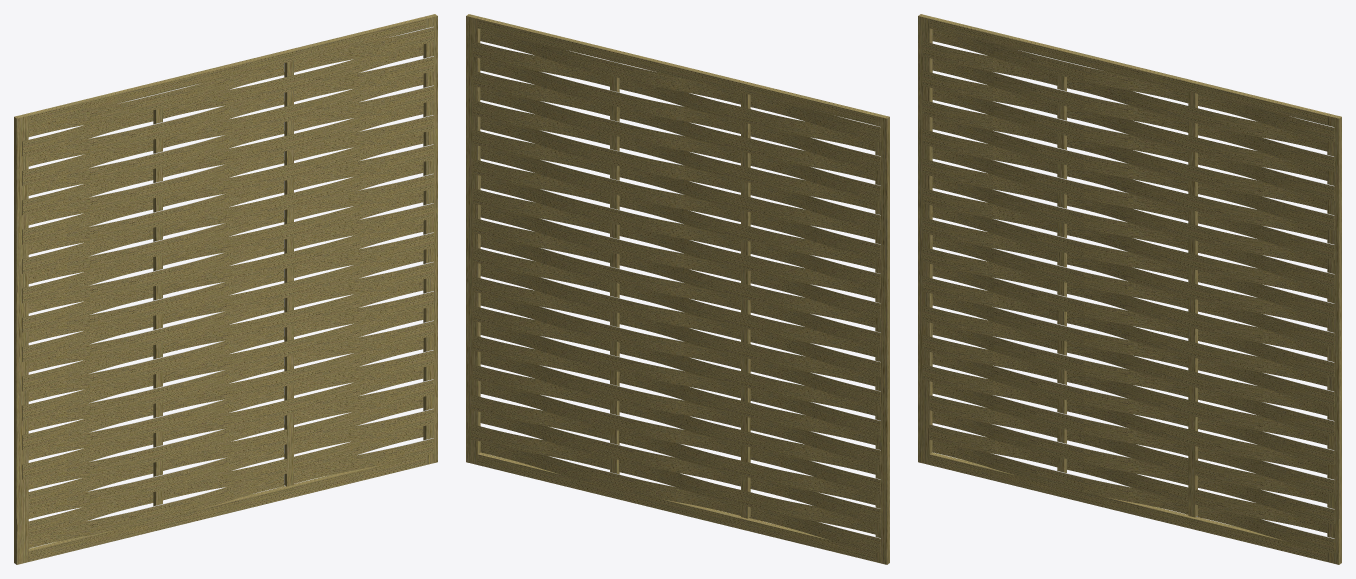
File: fence_panel.glb
3 renders of one model, left to right at view 1: azimuth 30°, elevation 25°; view 2: azimuth 150°, elevation 25°; view 3: azimuth 330°, elevation 25°, orthographic.
Parts seen in each view (by area): view 1: Geom3D (×64); view 2: Geom3D (×35); view 3: Geom3D (×64).
Boxes of the visible parts, x1,y1,x2,y2 form: Geom3D (×64): [14, 14, 437, 564]; Geom3D (×35): [466, 14, 889, 564]; Geom3D (×64): [918, 14, 1341, 564].
Bounding box in the file's own units: 1.8 × 1.82 × 0.0337.
1 material, 1 textured.
